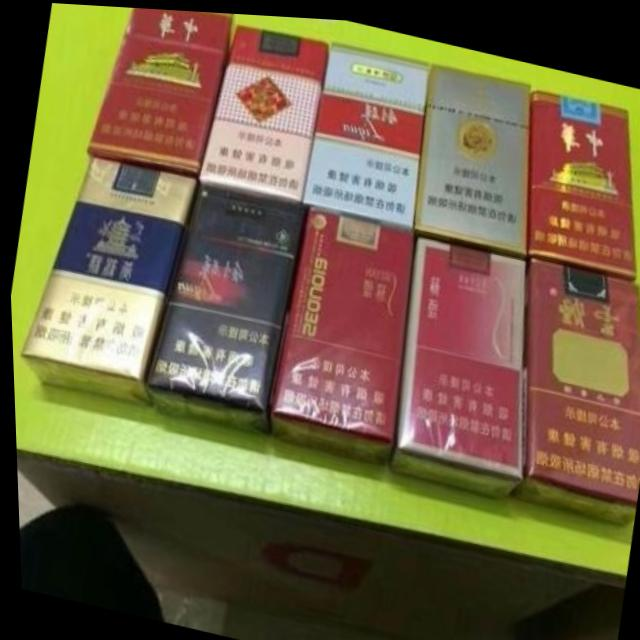box: (19, 154, 197, 406), (142, 179, 303, 432), (266, 199, 414, 460), (384, 230, 525, 495), (511, 253, 640, 519), (88, 6, 232, 179), (301, 37, 430, 228), (197, 18, 329, 198), (416, 57, 530, 255), (524, 81, 636, 273)
